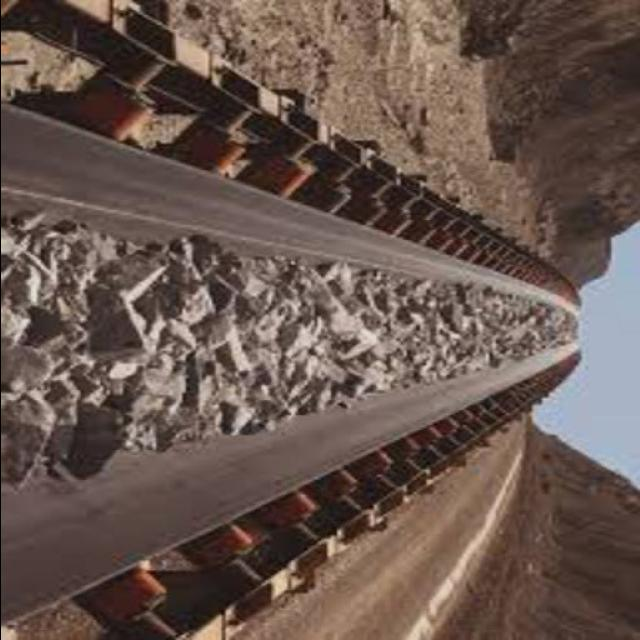conveyor: (0, 106, 581, 629)
